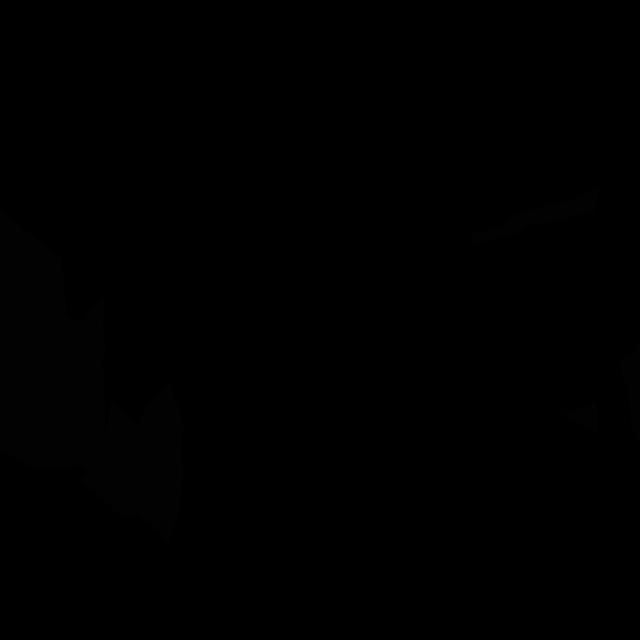cardboard: (0, 209, 106, 477), (80, 381, 184, 544), (471, 187, 600, 244), (619, 342, 640, 442), (559, 403, 598, 435)
